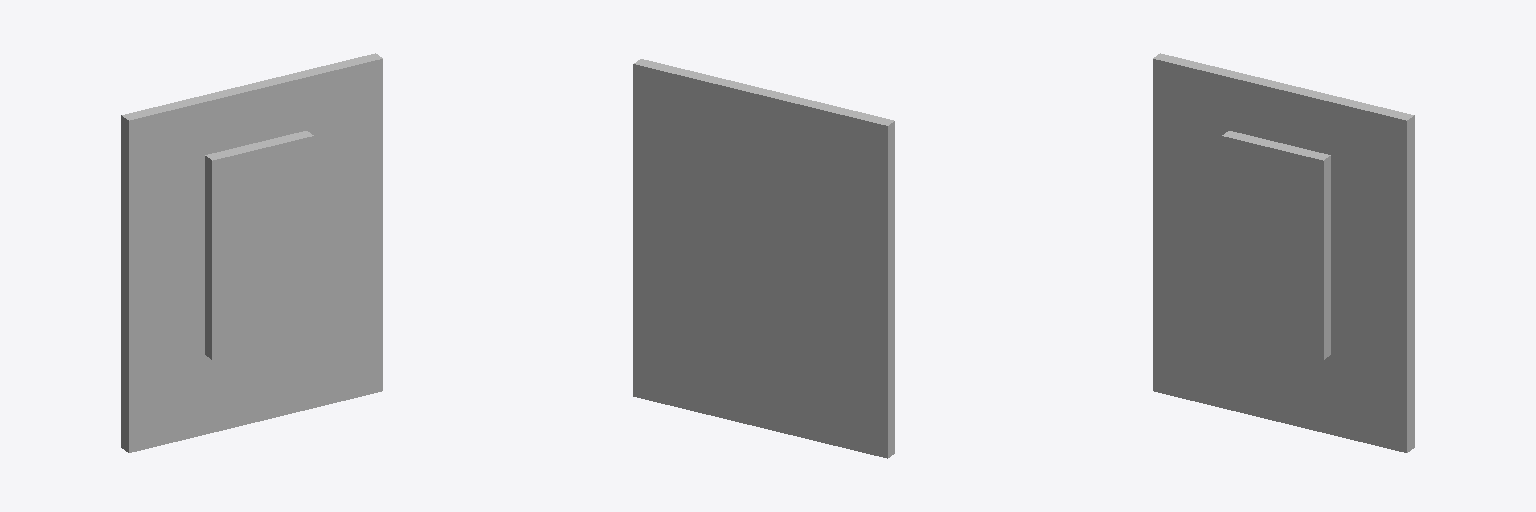
The model's file is lightswitch.obj.
3 renders of one model, left to right at view 1: azimuth 30°, elevation 25°; view 2: azimuth 150°, elevation 25°; view 3: azimuth 330°, elevation 25°, orthographic.
Parts seen in each view (by area): view 1: object 1; view 2: object 1; view 3: object 1.
Part boxes in pixels (x1,y1,x2,y2): object 1: (121,53,382,452); object 1: (633,59,894,458); object 1: (1153,53,1414,452).
Size of the model in its own units: 2 by 2.5 by 0.2.